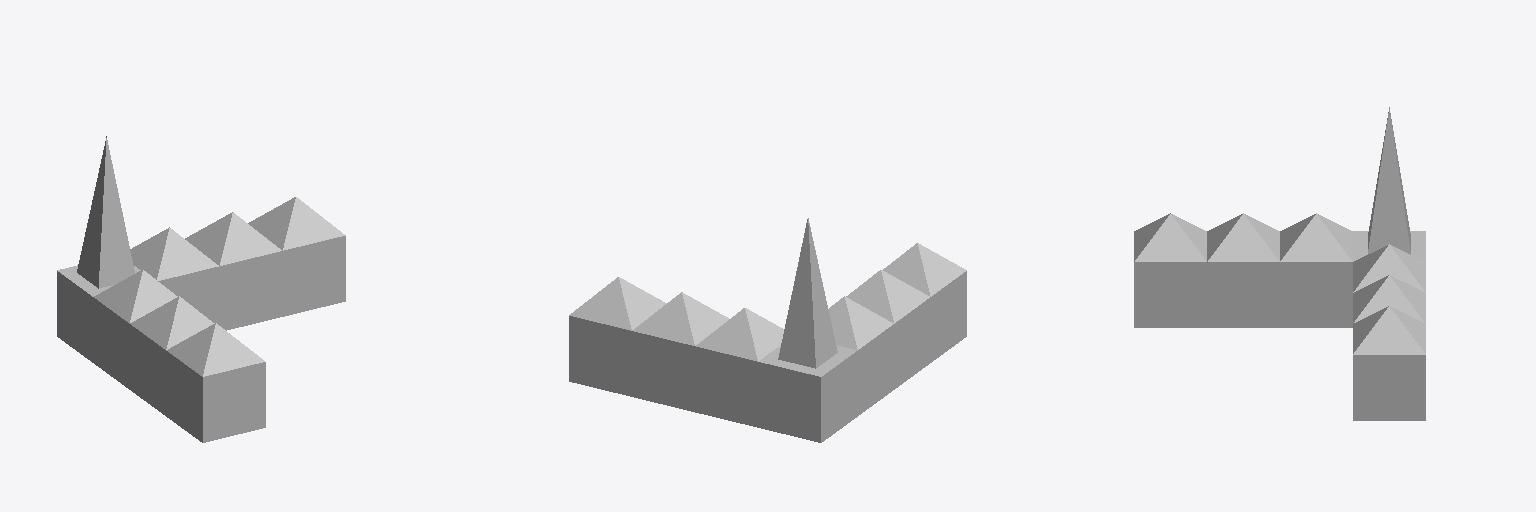
Rendered from Factory2.obj.
The picture shows the model from 3 angles: view 1: azimuth 30°, elevation 25°; view 2: azimuth 150°, elevation 25°; view 3: azimuth 270°, elevation 25°; orthographic projection.
Visible parts, largest first — view 1: pCube1; view 2: pCube1; view 3: pCube1.
Part boxes in pixels (left/top/right/bottom): pCube1: left=57, top=136, right=345, bottom=442; pCube1: left=569, top=218, right=966, bottom=442; pCube1: left=1134, top=107, right=1425, bottom=420.
Size of the model in its own units: 87.72 by 68.38 by 87.72.